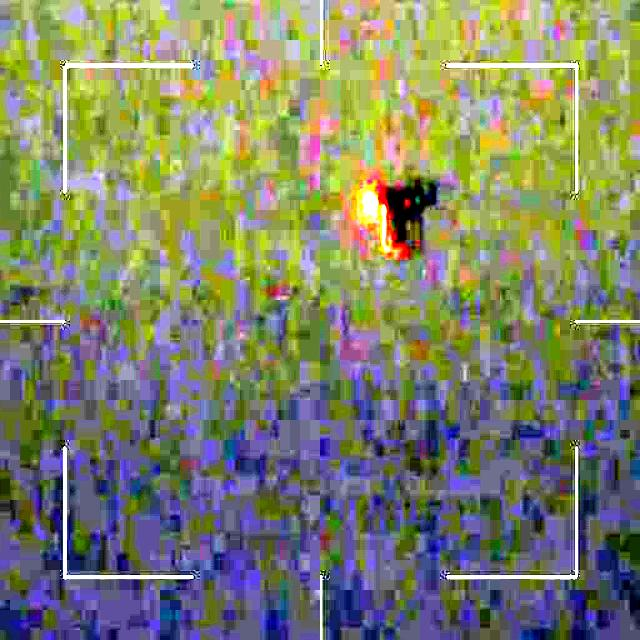bird: (352, 164, 442, 251)
